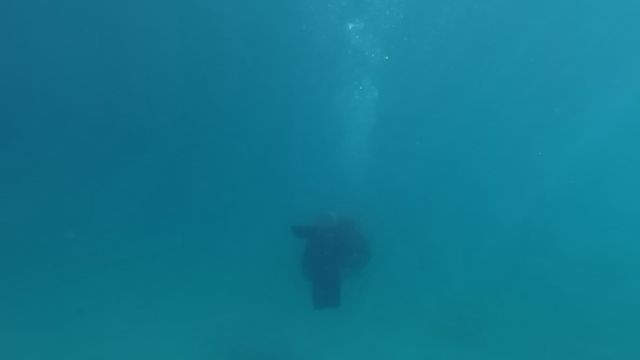Diver: (286, 214, 377, 314)
